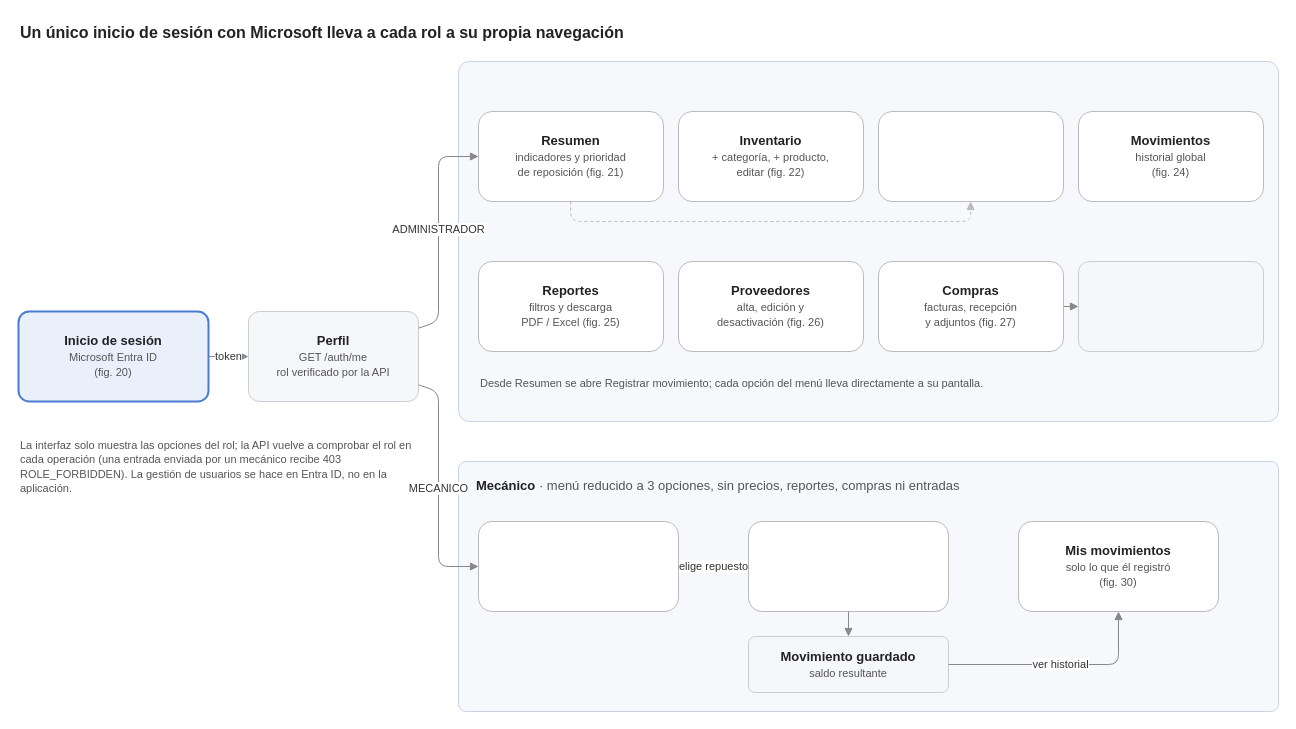
The diagram is 1296 pixels wide and 729 high, and some of its shapes have lost their labels. The box of each missing label's shape, as (x1, y1, x2, y2) in pixels:
Administrador · menú lateral con 7 opciones: (458, 60, 1278, 422)
Consultar stock búsqueda sin precios (fig. 28): (478, 520, 678, 612)
Detalle de factura confirmar recepción, anular, documentos: (1078, 260, 1264, 352)
Registrar movimiento entrada o salida con vista previa (fig. 23): (878, 110, 1064, 202)
Registrar salida producto, cantidad, OT y motivo (fig. 29): (748, 520, 948, 612)
